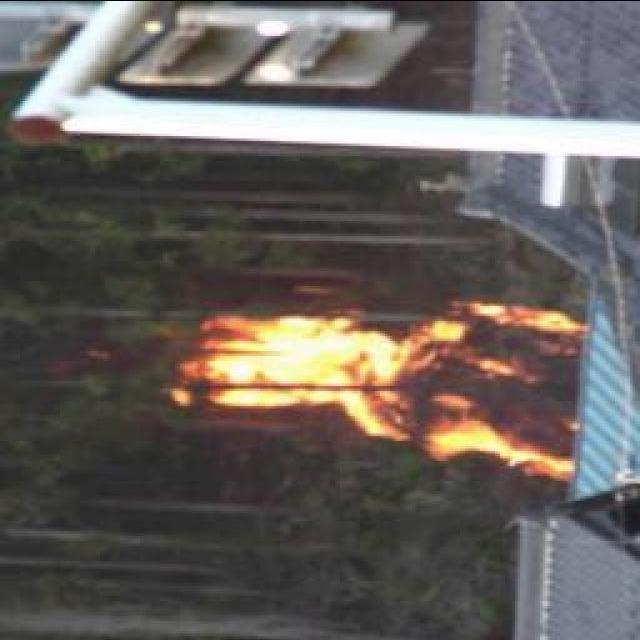Fire: (175, 292, 583, 478)
